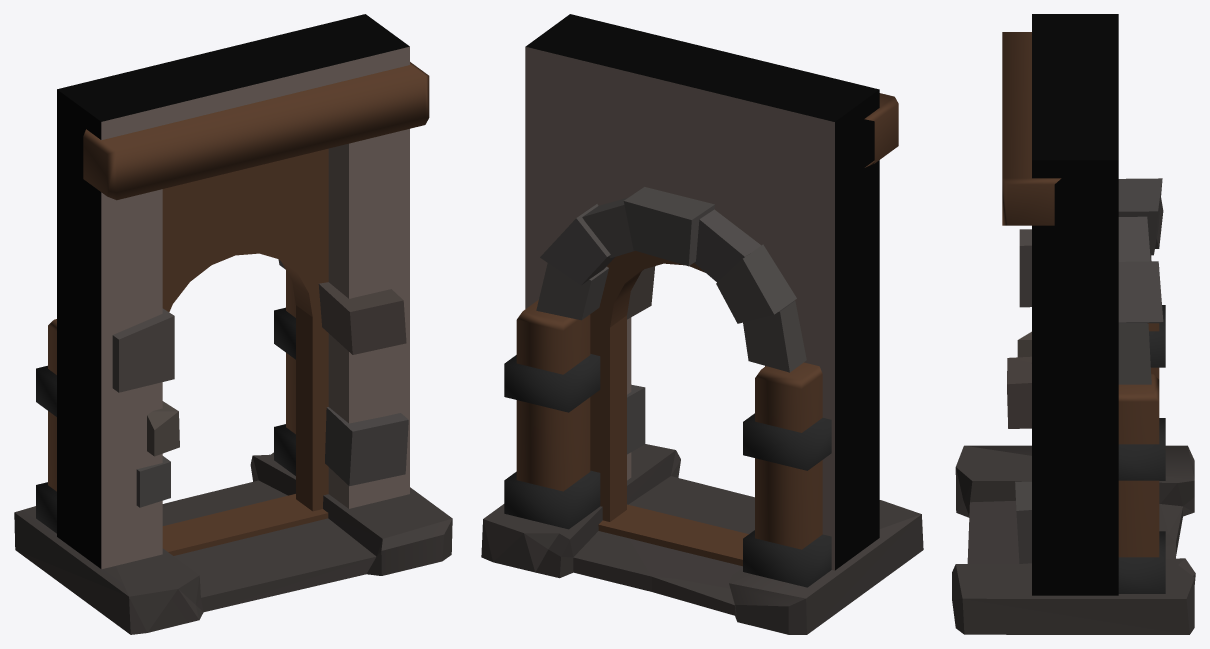
The model's file is Wall_S_RoomEntrance.fbx.
3 views of the same model, side by side, from view 1: azimuth 30°, elevation 25°; view 2: azimuth 150°, elevation 25°; view 3: azimuth 270°, elevation 25° (orthographic). The views are drawn at different scales.
Visible parts, largest first — view 1: Wall_S_RoomEntrance; view 2: Wall_S_RoomEntrance; view 3: Wall_S_RoomEntrance.
Part boxes in pixels (bbox=[...]): Wall_S_RoomEntrance: bbox=[14, 14, 452, 634]; Wall_S_RoomEntrance: bbox=[481, 14, 923, 634]; Wall_S_RoomEntrance: bbox=[952, 14, 1195, 634].
Size of the model in its own units: 4.02 by 5.76 by 2.7.
